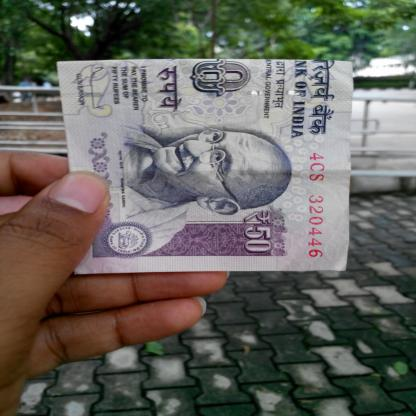Old50Front: (56, 59, 354, 275)
